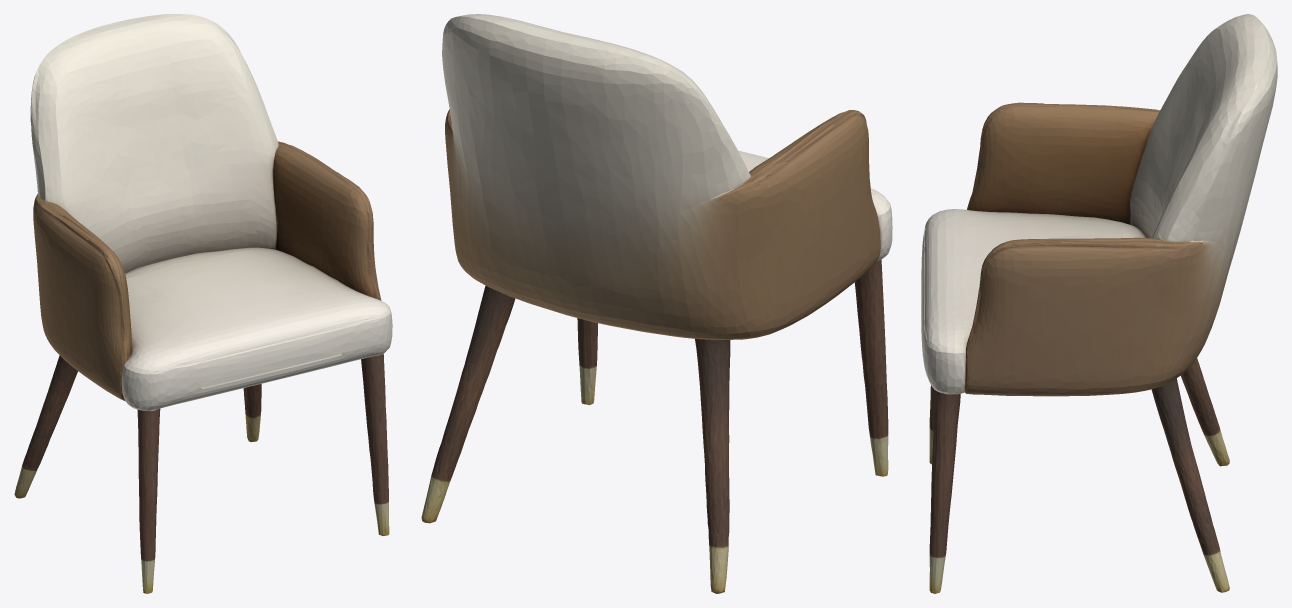
3 renders of one model, left to right at view 1: azimuth 30°, elevation 25°; view 2: azimuth 150°, elevation 25°; view 3: azimuth 270°, elevation 25°, orthographic. The views are drawn at different scales.
Visible parts, largest first — view 1: world; view 2: world; view 3: world.
Part boxes in pixels (x1,y1,x2,y2): world: (14, 14, 392, 593); world: (421, 14, 892, 593); world: (921, 14, 1277, 593).
Bounding box in the file's own units: 0.6707 × 0.9999 × 0.6736.
Materials: 1 (1 with a texture image).
